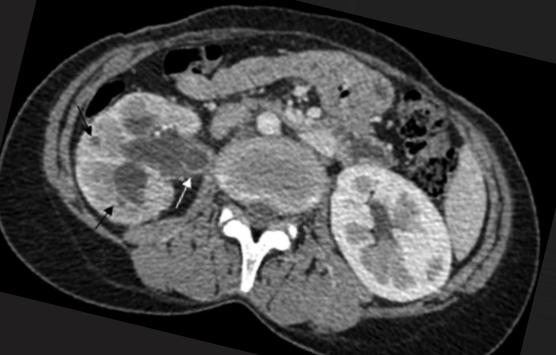anomaly: (176, 146, 216, 176)
